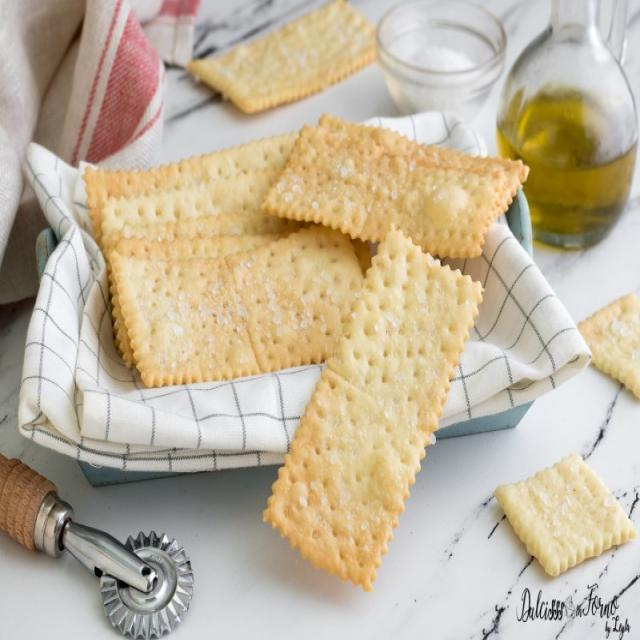Cracker: (256, 235, 487, 585), (109, 225, 391, 380), (273, 103, 523, 255), (487, 453, 640, 577)
